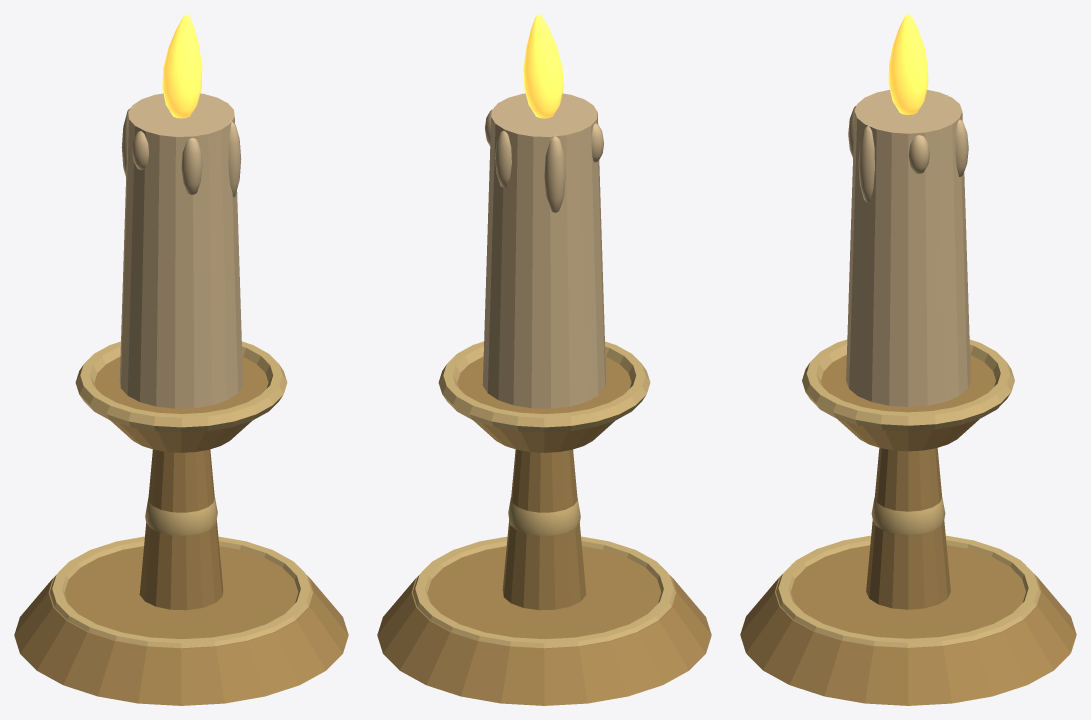
Rendered from wizard_candle_070.glb.
3 views of the same model, side by side, from view 1: azimuth 30°, elevation 25°; view 2: azimuth 150°, elevation 25°; view 3: azimuth 270°, elevation 25° (orthographic).
Parts seen in each view (by area): view 1: wizard_candle_070_Static, wizard_candle_070_Flame; view 2: wizard_candle_070_Static, wizard_candle_070_Flame; view 3: wizard_candle_070_Static, wizard_candle_070_Flame.
Boxes of the visible parts, x1,y1,x2,y2 form: wizard_candle_070_Static: (14,93,348,705); wizard_candle_070_Flame: (162,14,202,118); wizard_candle_070_Static: (377,93,711,705); wizard_candle_070_Flame: (523,14,563,118); wizard_candle_070_Static: (740,89,1076,705); wizard_candle_070_Flame: (888,14,928,114).
Bounding box in the file's own units: 0.78 × 1.6 × 0.78.
